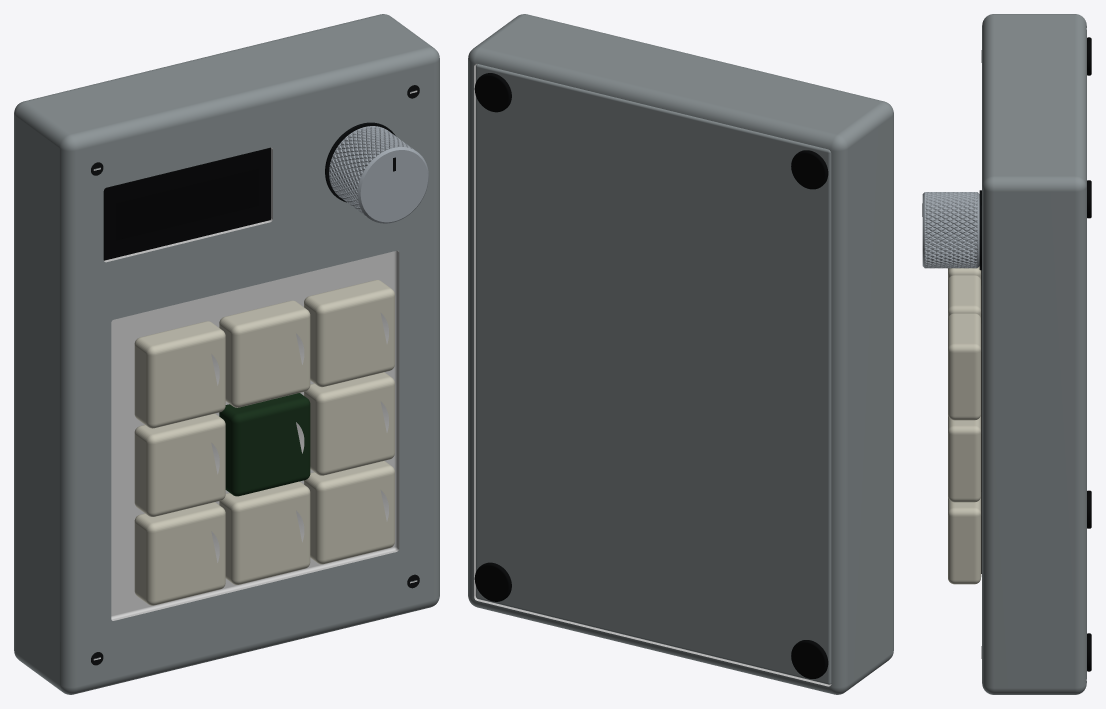
File: Tacpad 9.obj
3 renders of one model, left to right at view 1: azimuth 30°, elevation 25°; view 2: azimuth 150°, elevation 25°; view 3: azimuth 270°, elevation 25°, orthographic. The views are drawn at different scales.
Visible parts, largest first — view 1: Enclosure_/_85_x_120_x_22_mm, Keycap_01, Keycap_04, Keycap_07, Keycap_02, Keycap_03, Keycap_05, Keycap_08, Keycap_06, Keycap_09, Knob_/_D16_x_H12_/_diamond_knurl, OLED_glass_/_recessed (+1 smaller); view 2: Bottom_cover_/_inset, Enclosure_/_85_x_120_x_22_mm, Silicone_foot_/_35.5_-52.5, Silicone_foot_/_-35.5_52.5, Silicone_foot_/_35.5_52.5, Silicone_foot_/_-35.5_-52.5; view 3: Enclosure_/_85_x_120_x_22_mm, Knob_/_D16_x_H12_/_diamond_knurl, Keycap_03, Keycap_06, Keycap_09, Keycap_02, Bottom_cover_/_inset.
Boxes of the visible parts, x1,y1,x2,y2 form: Enclosure_/_85_x_120_x_22_mm: (14,14,439,694); Keycap_01: (134,321,225,428); Keycap_04: (134,413,225,516); Keycap_07: (134,502,225,605); Keycap_02: (219,300,310,407); Keycap_03: (304,280,394,387); Keycap_05: (219,393,310,496); Keycap_08: (219,481,310,584); Keycap_06: (304,372,394,475); Keycap_09: (304,461,394,564); Knob_/_D16_x_H12_/_diamond_knurl: (329,126,428,223); OLED_glass_/_recessed: (103,147,270,260); Bottom_cover_/_inset: (476,64,831,684); Enclosure_/_85_x_120_x_22_mm: (468,14,893,694); Silicone_foot_/_35.5_-52.5: (474,562,511,601); Silicone_foot_/_-35.5_52.5: (791,150,828,189); Silicone_foot_/_35.5_52.5: (474,73,511,112); Silicone_foot_/_-35.5_-52.5: (791,640,828,678); Enclosure_/_85_x_120_x_22_mm: (982,14,1086,694); Knob_/_D16_x_H12_/_diamond_knurl: (922,192,979,268); Keycap_03: (948,313,981,420); Keycap_06: (948,413,981,502); Keycap_09: (948,495,981,584); Keycap_02: (948,275,981,319); Bottom_cover_/_inset: (1086,30,1086,678).
Size of the model in its own units: 85 by 120 by 35.55.
